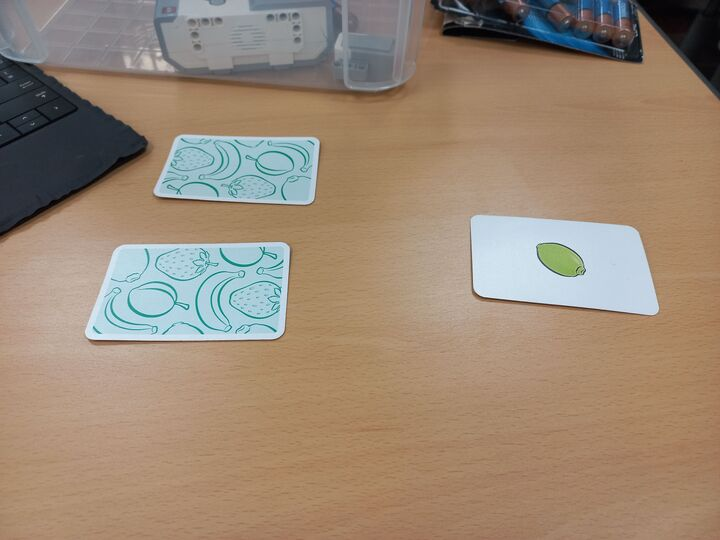lime1: (468, 213, 662, 317)
